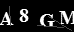8: (17, 8, 29, 22)
A: (1, 11, 13, 25)
G: (38, 13, 55, 28)
M: (57, 10, 74, 25)
